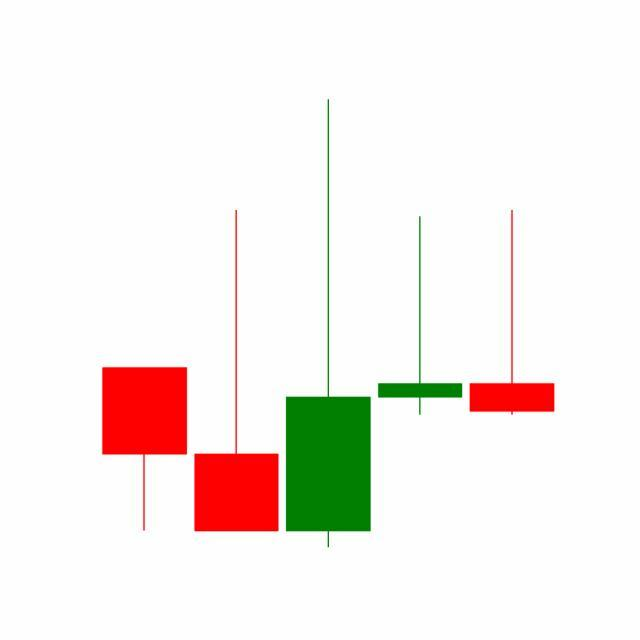Spinning Top: (374, 214, 468, 418)
